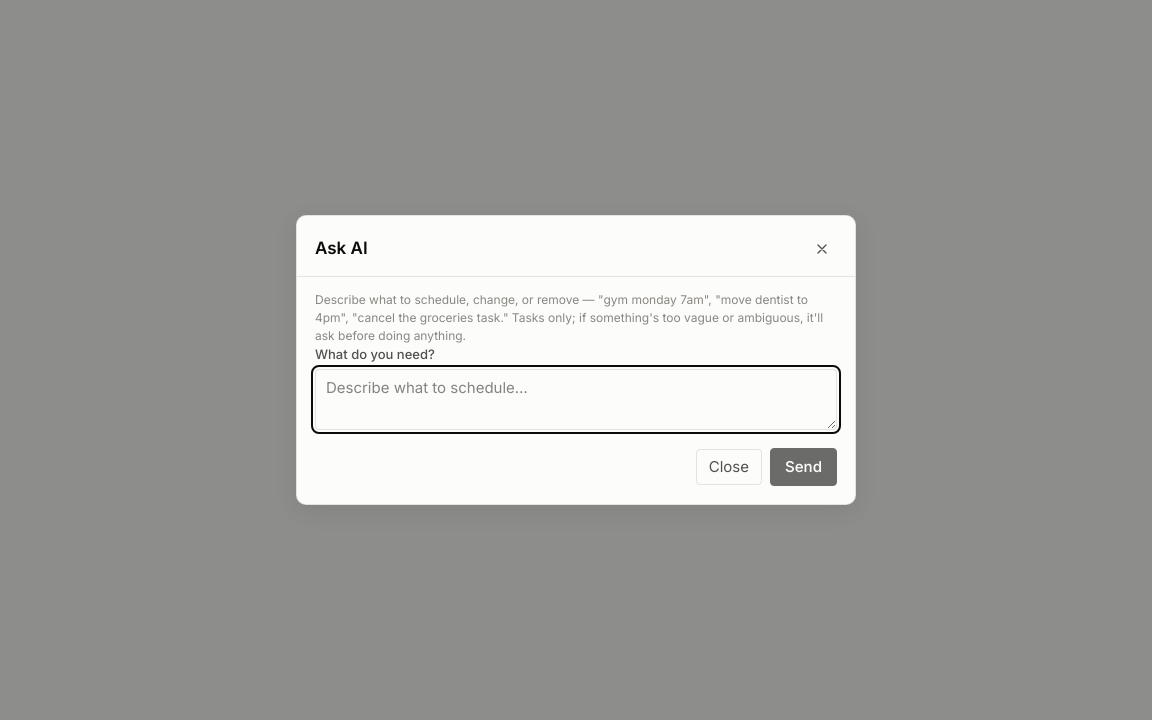
AiChatModal › a mixed batch (create + remove in one turn) applies both and reports both in one summary
Type "add gym monday 7am and remove the old thing" into the text box with placeholder "Describe what to schedule…" at (576, 399), box [315,368,837,430]
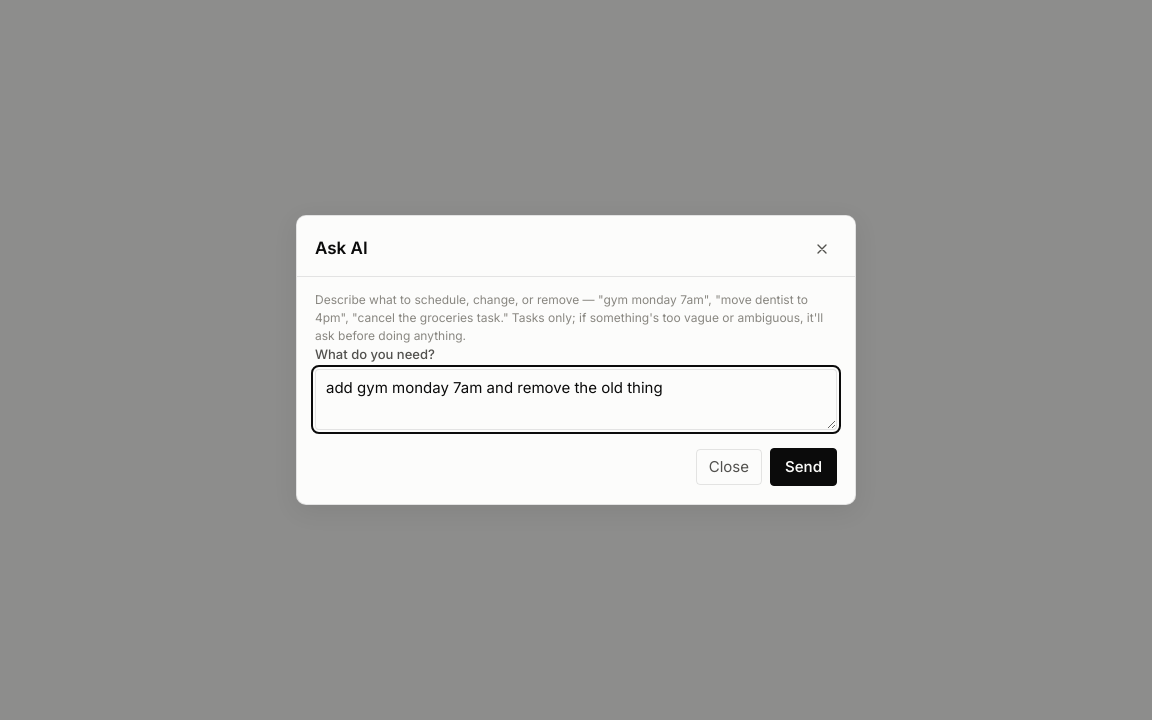
Click the button "Send" at (804, 467), box [770,448,837,486]
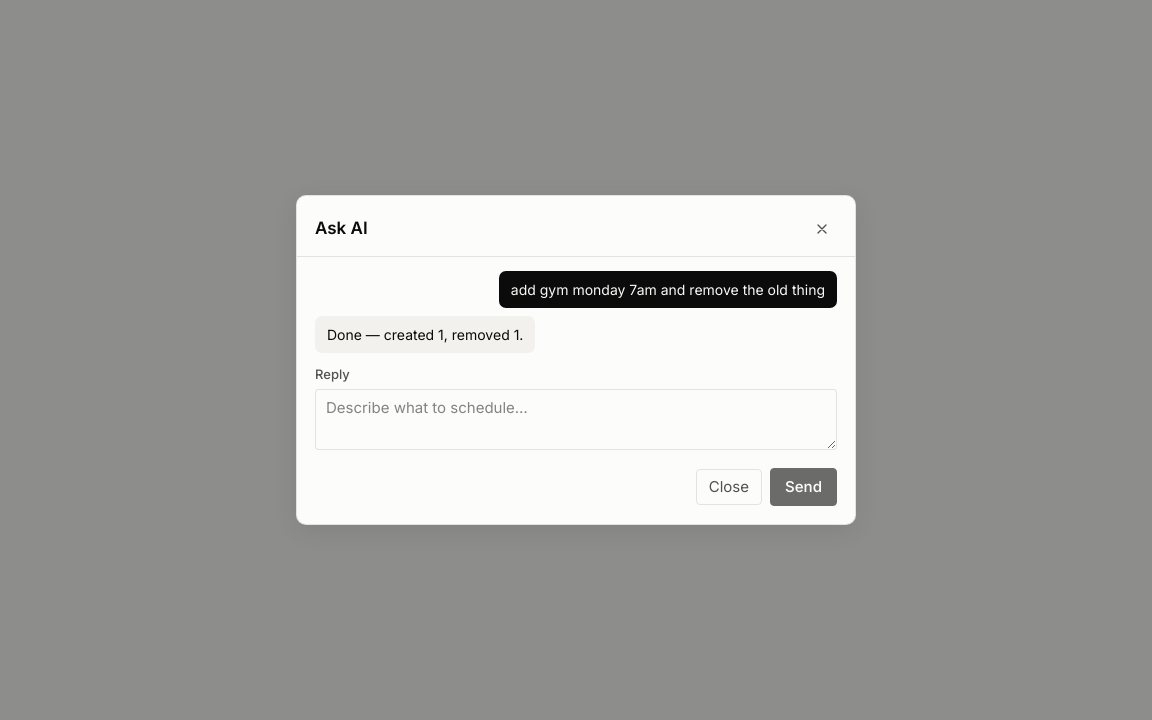
expect the text "Done — created 1, removed 1." is shown: met, box [315,316,535,353]
